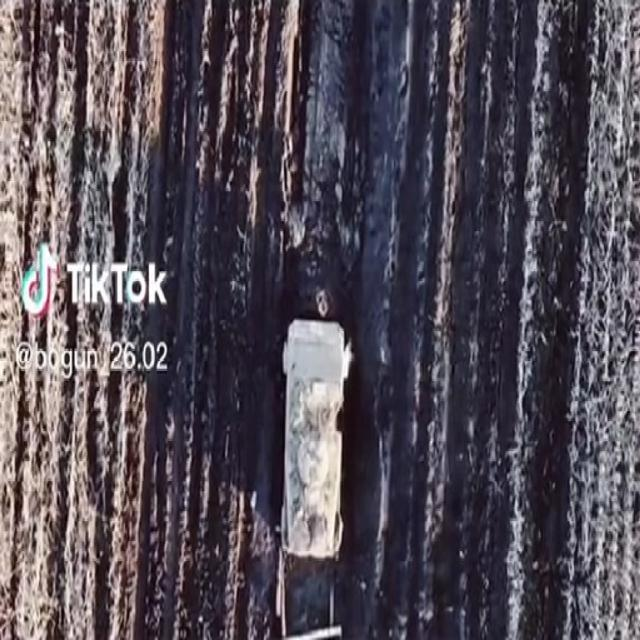APC-IFV: (272, 309, 352, 564)
